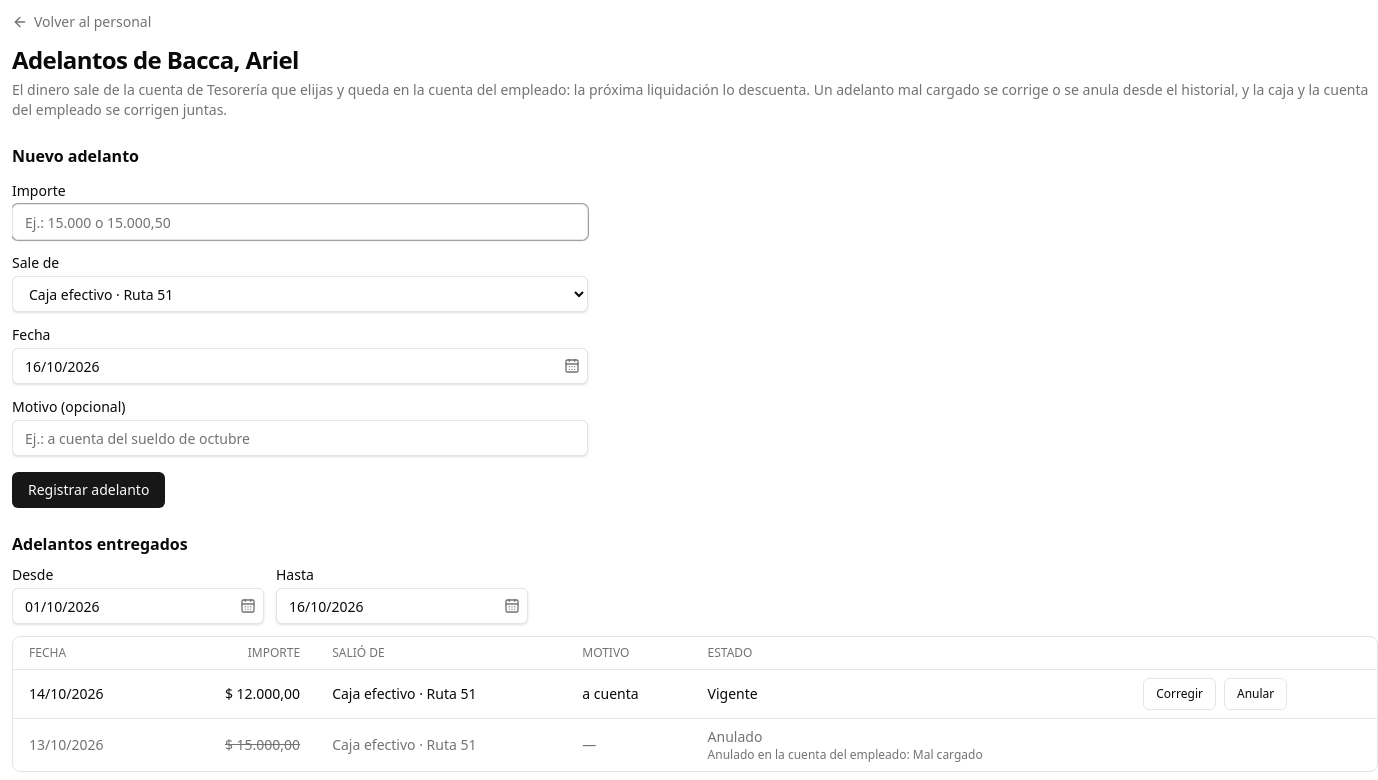
it: EmployeeAdvancePage › corrects an advance from the form, loaded with it and asking why
Click the button "Corregir" at (1180, 694), box [1143,678,1216,710]
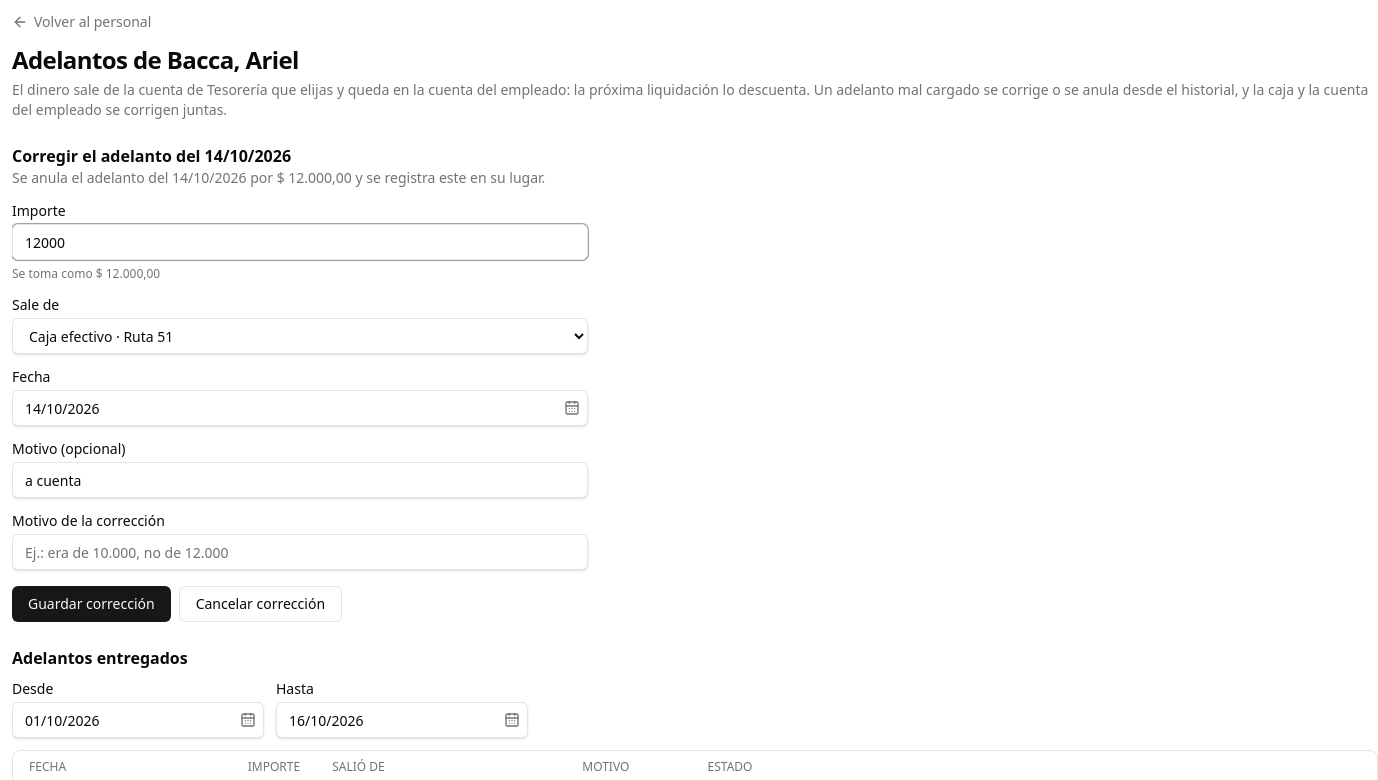
expect the heading "Corregir el adelanto del 14/10/2026" is shown: met, box [12,145,291,167]
expect the field labelled "Importe" holds "12000": met
expect the field labelled "Motivo (opcional)" holds "a cuenta": met, box [12,462,588,498]
Replace the text in the field labelled "Importe" with "10000" at (300, 242), box [12,224,588,260]
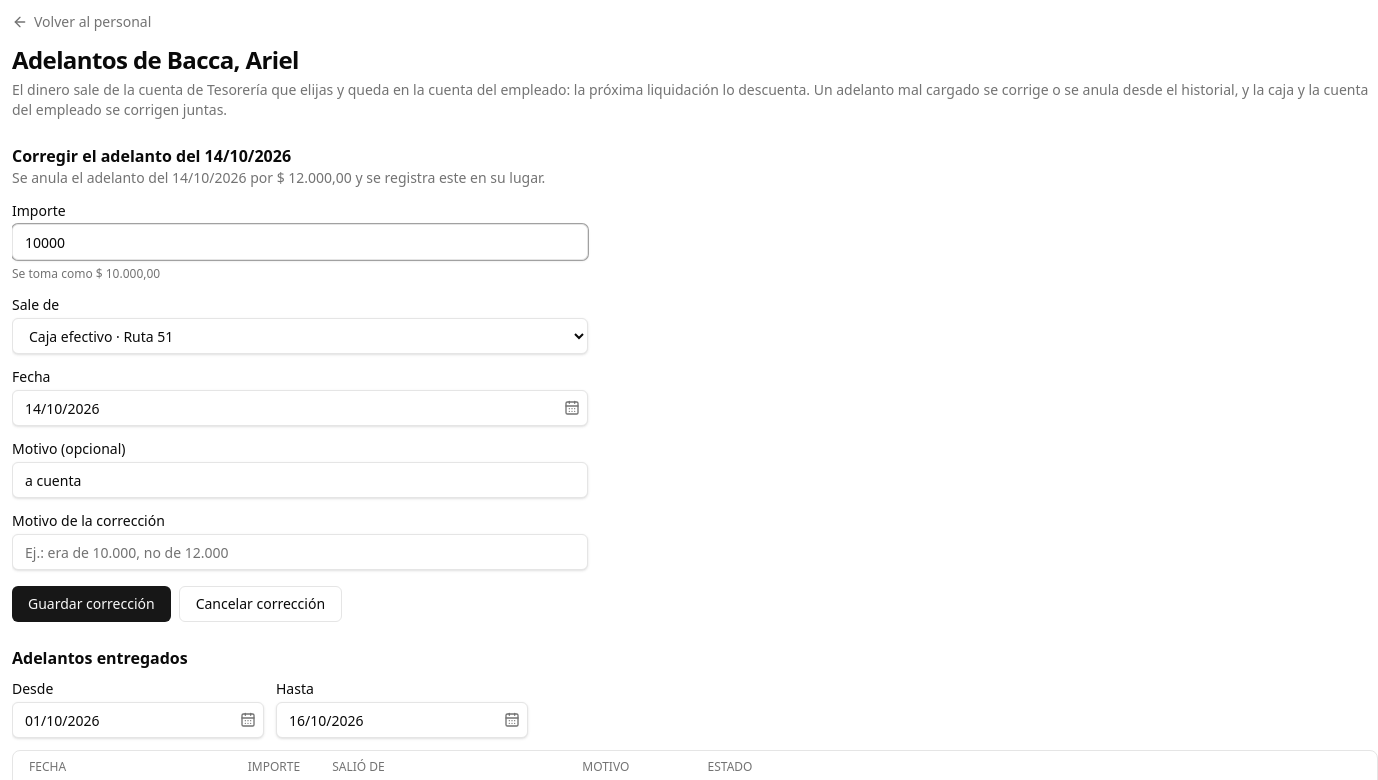
Select "Banco Nación" in the dropdown labelled "Sale de" at (300, 336), box [12,318,588,354]
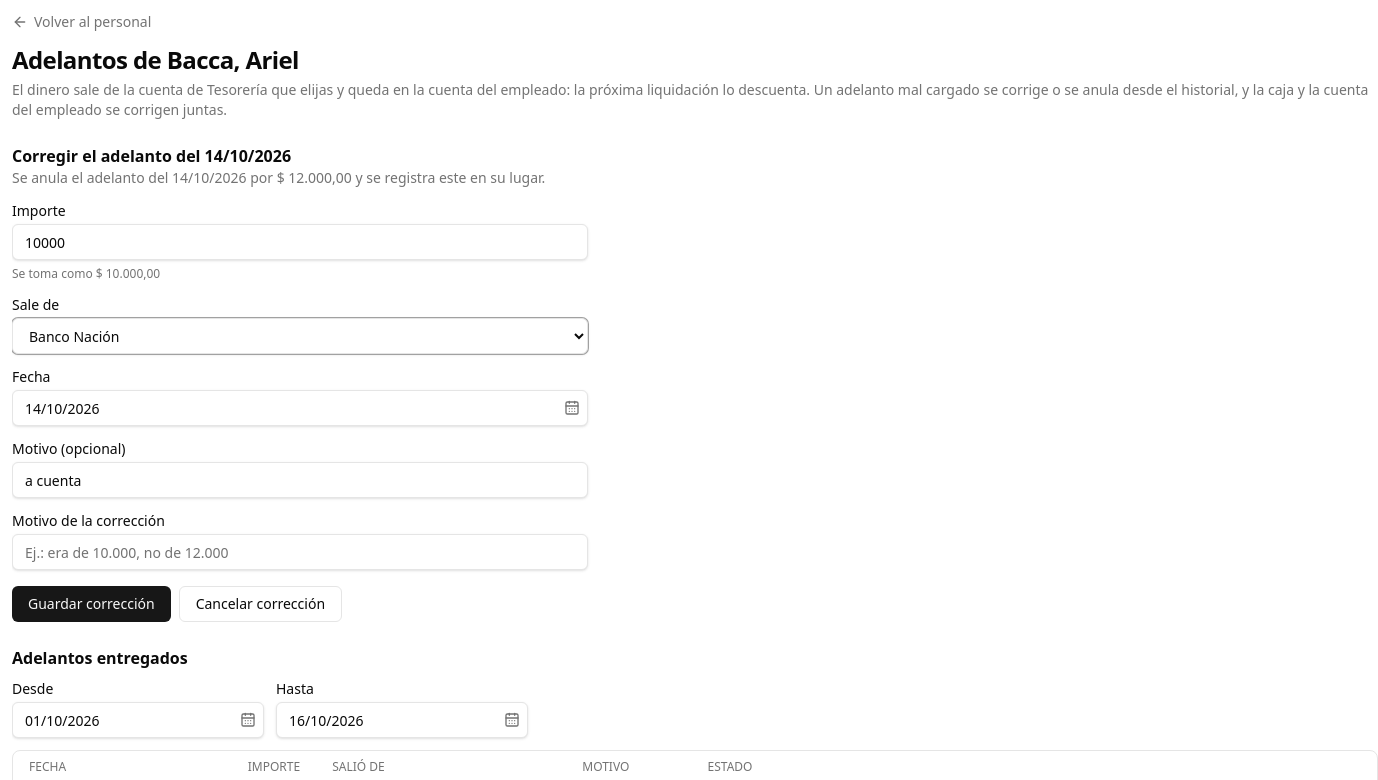
Click the button "Guardar corrección" at (91, 604), box [12,586,171,622]
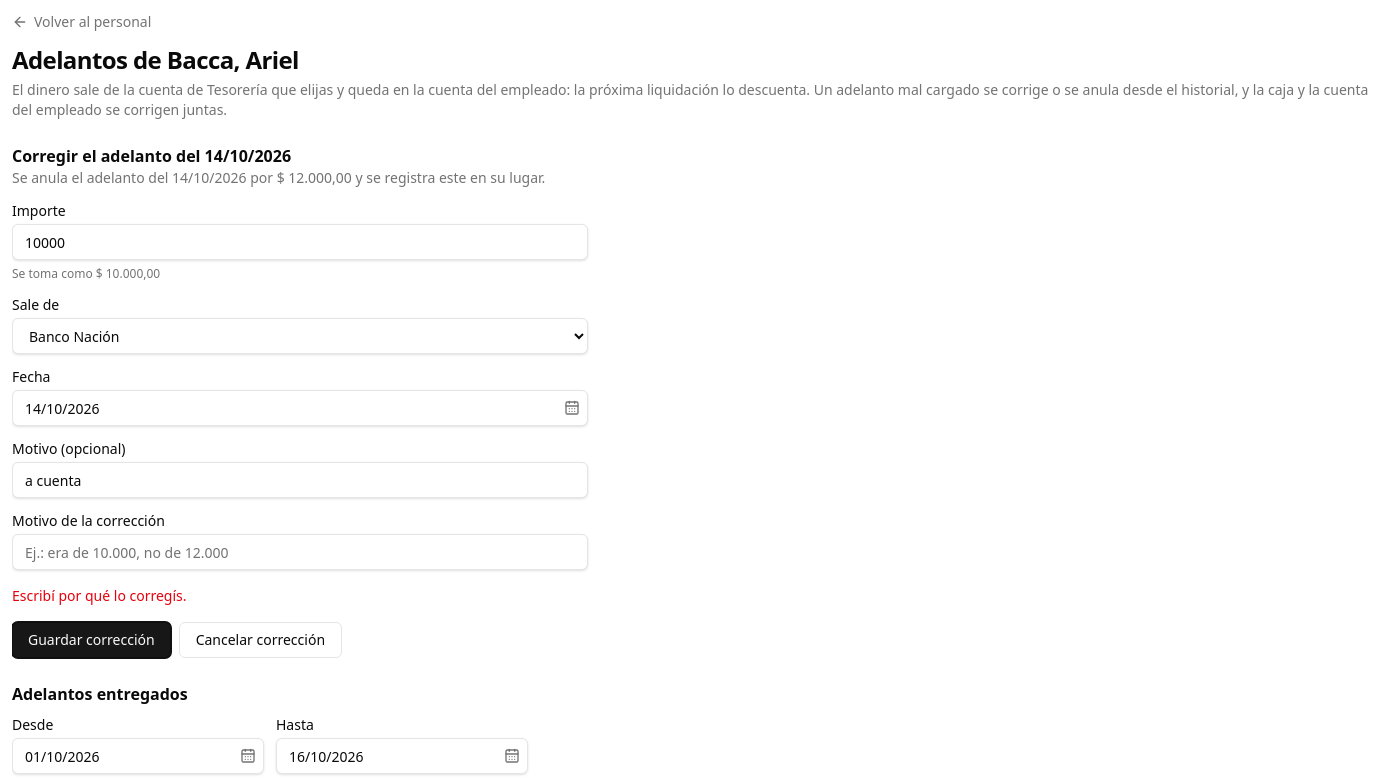
expect the message reads "Escribí por qué lo corregís.": met, box [12,586,186,605]
Type "Era de 10.000" into the field labelled "Motivo de la corrección" at (300, 552), box [12,534,588,570]
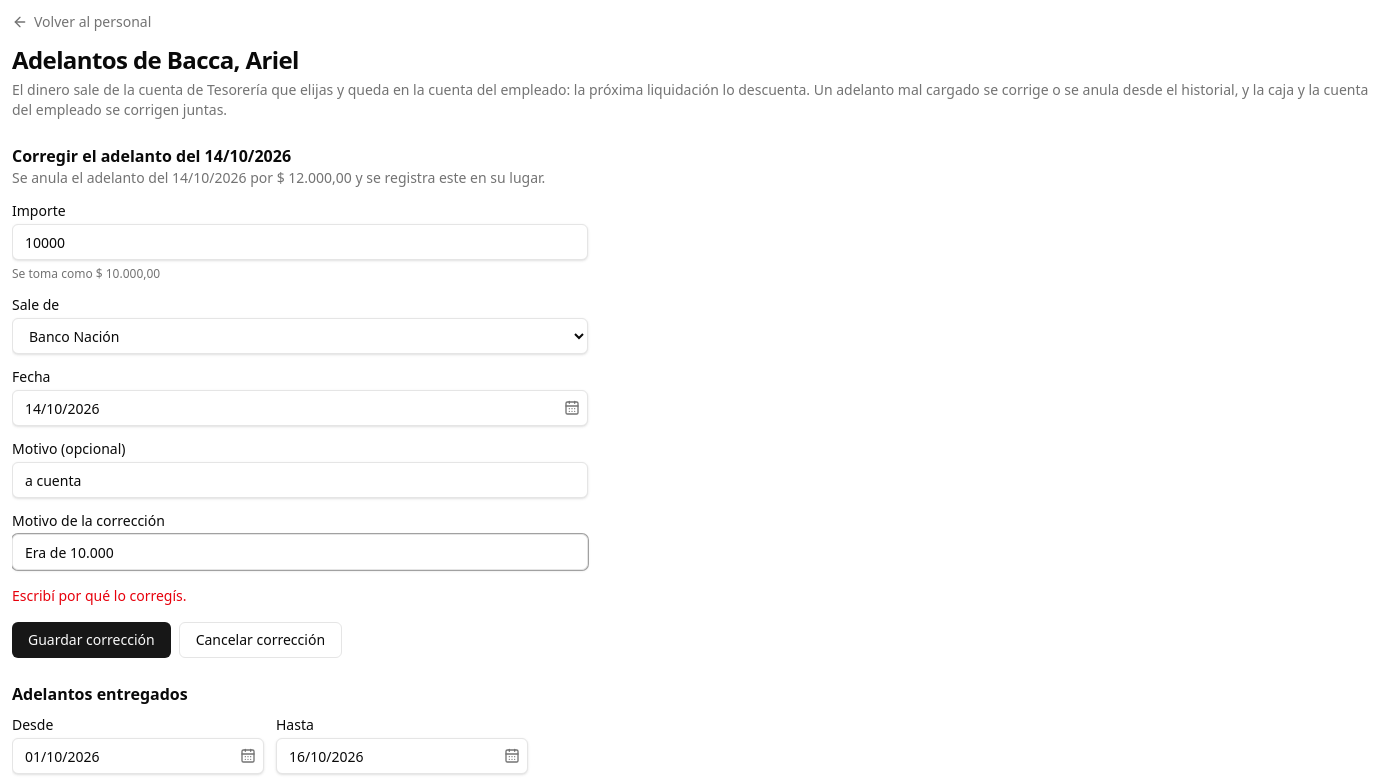
Click the button "Guardar corrección" at (91, 640), box [12,622,171,658]
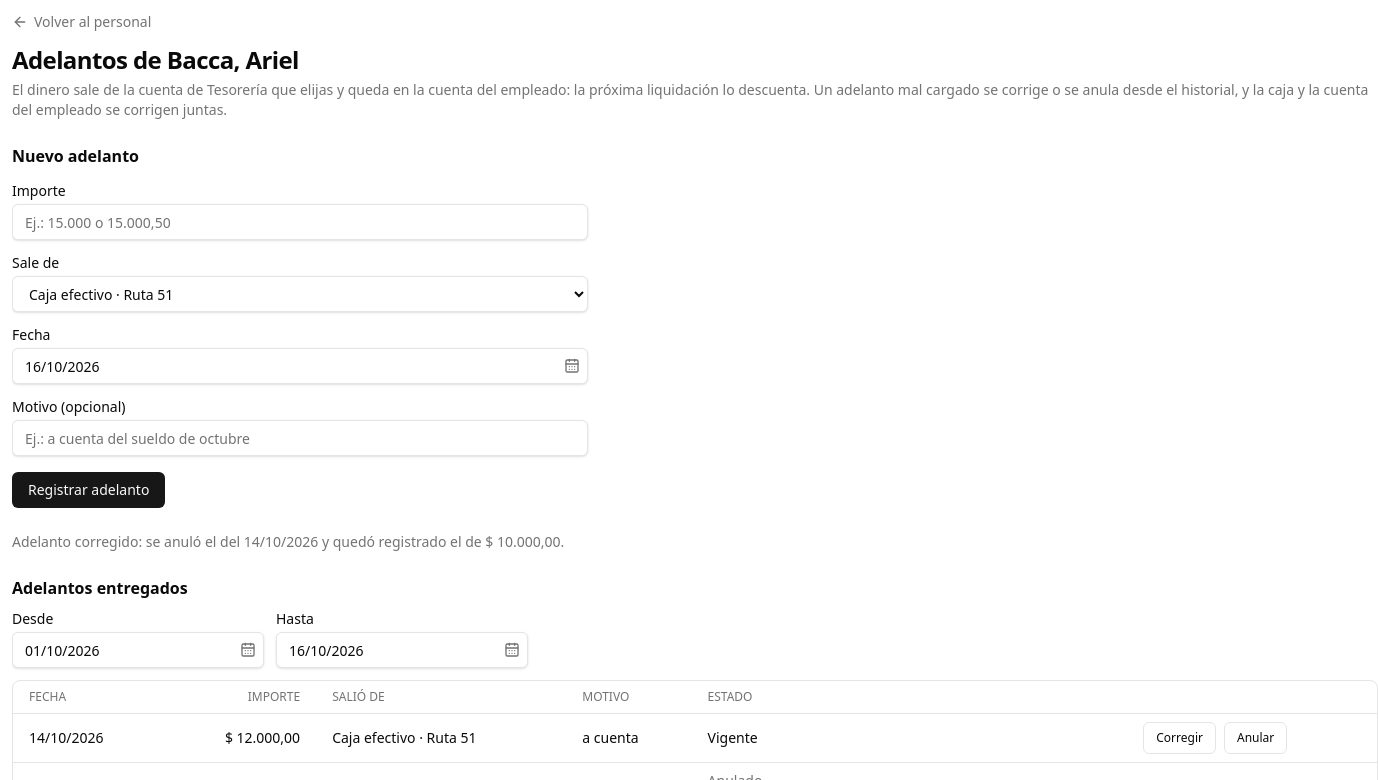
expect the text "Adelanto corregido" is shown: met, box [12,532,564,551]
expect the heading "Nuevo adelanto" is shown: met, box [12,145,139,167]
